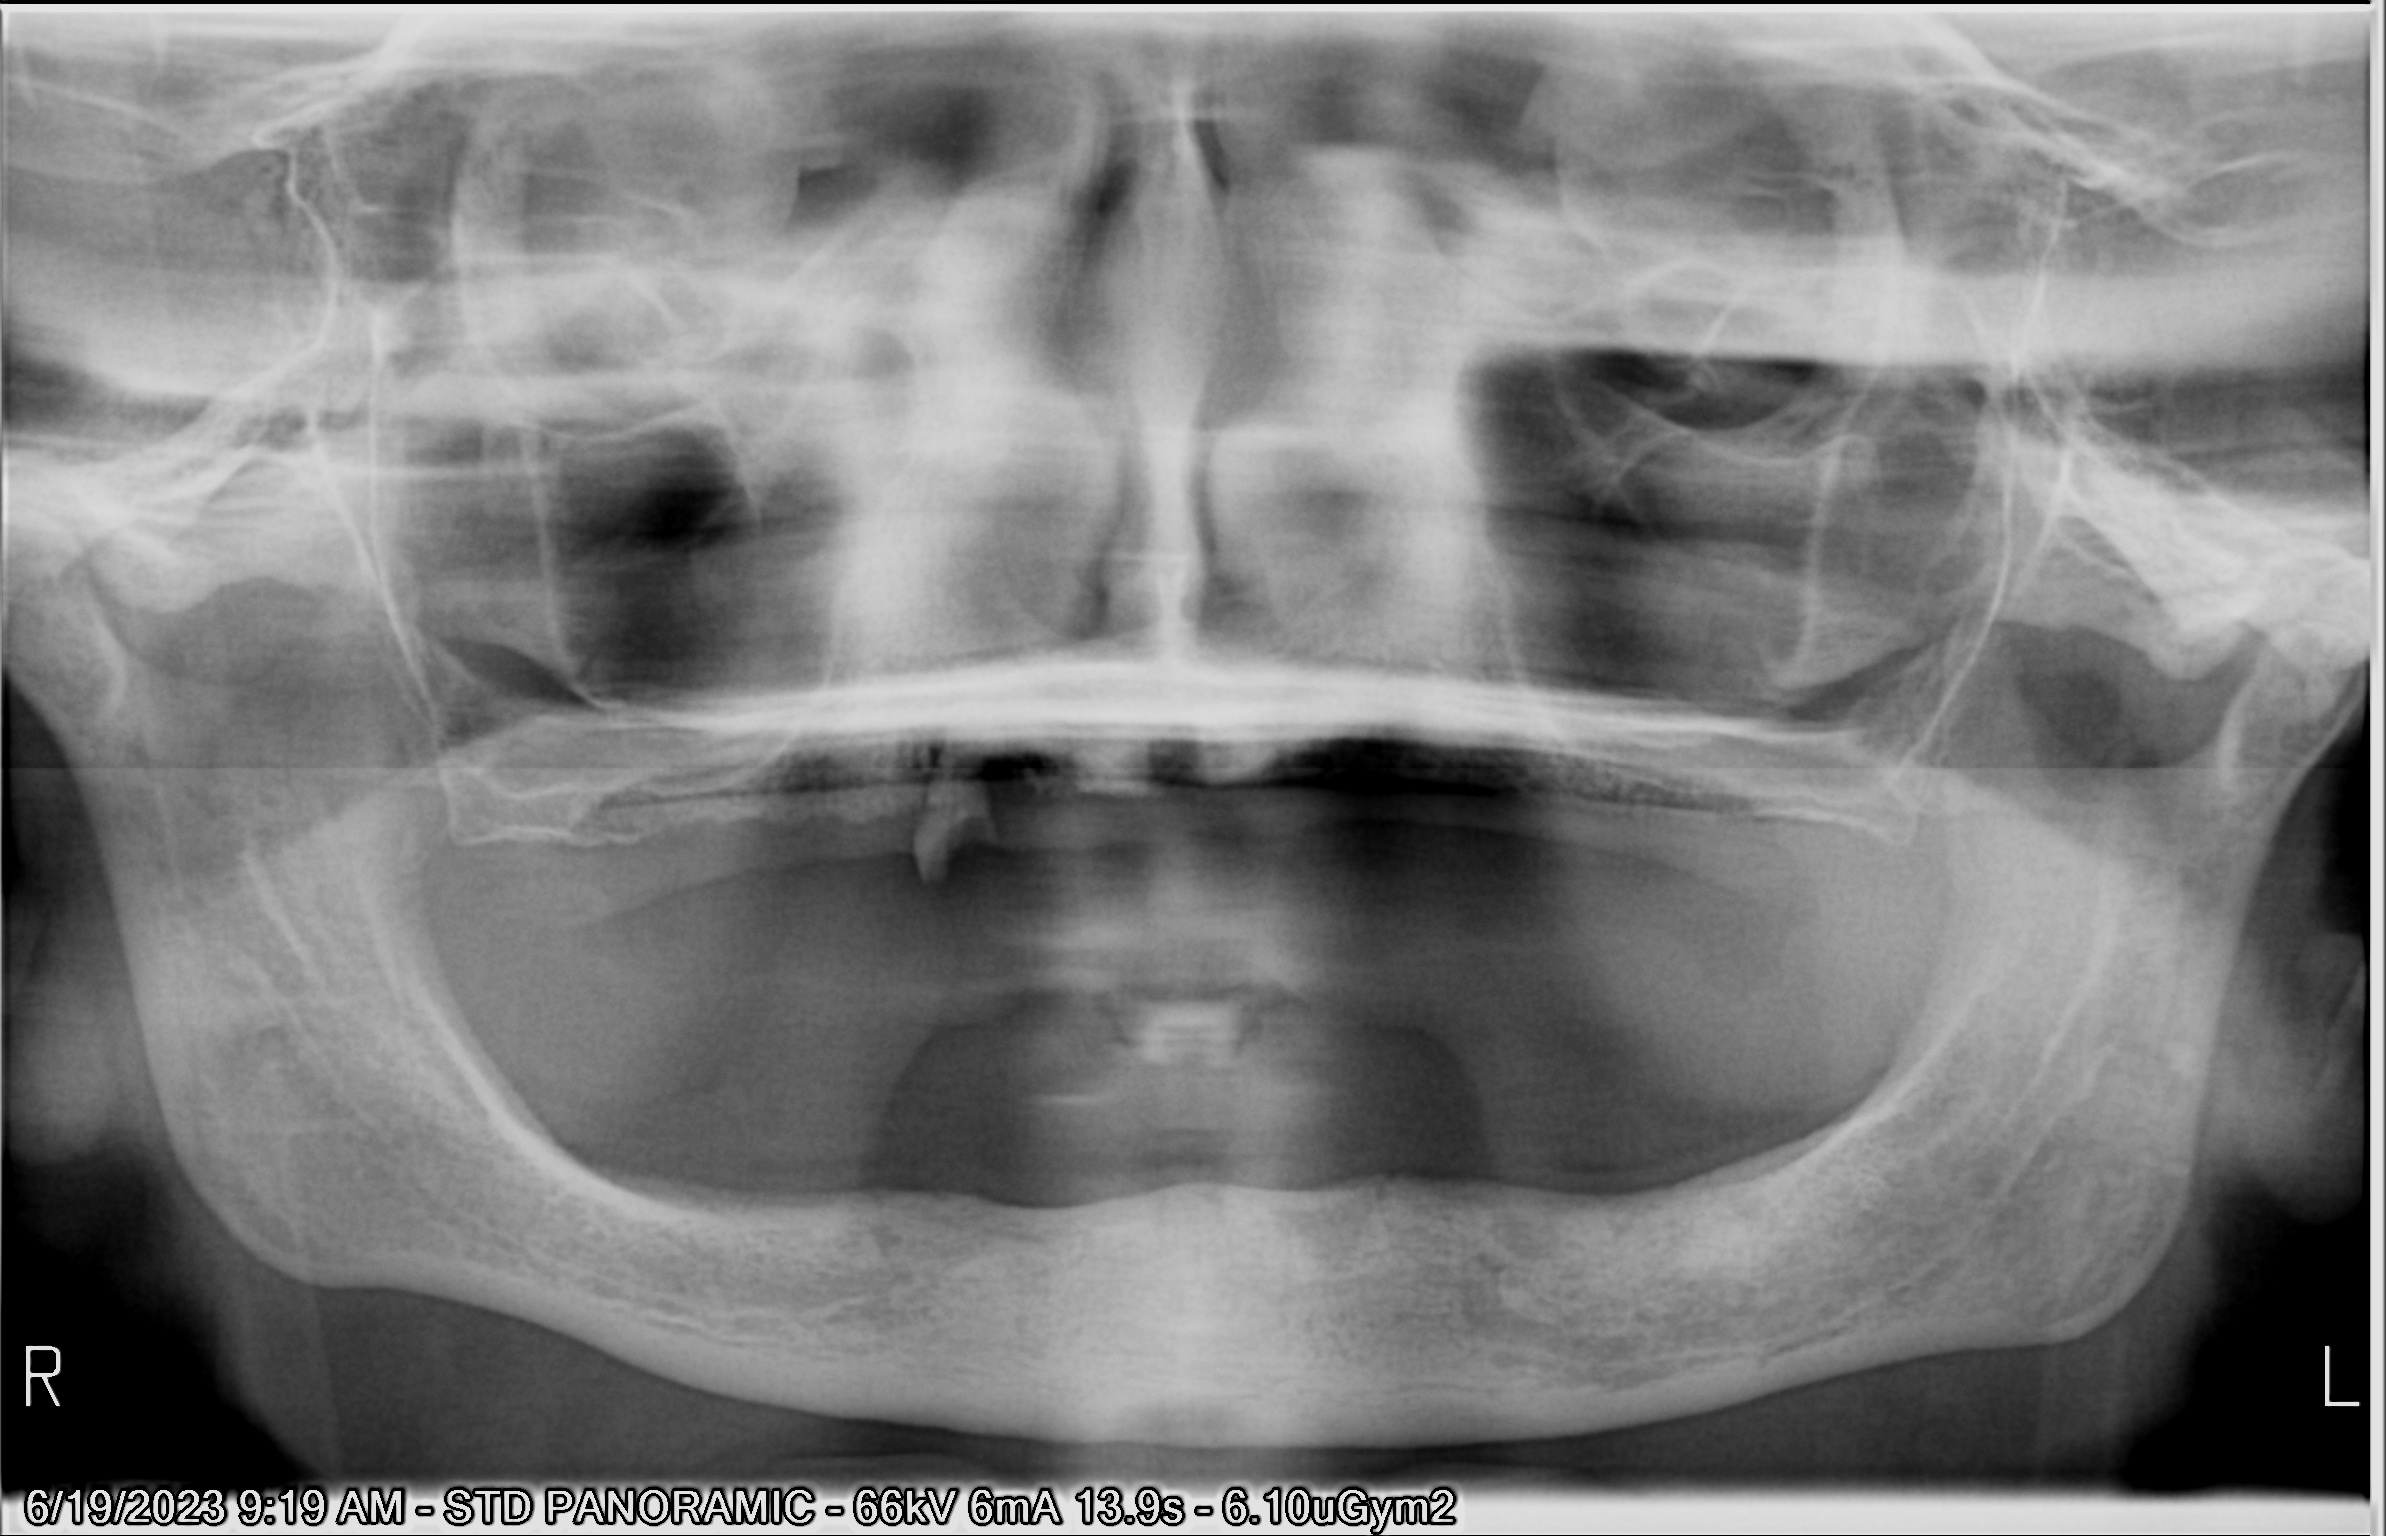ROT: (904, 774, 988, 880)
